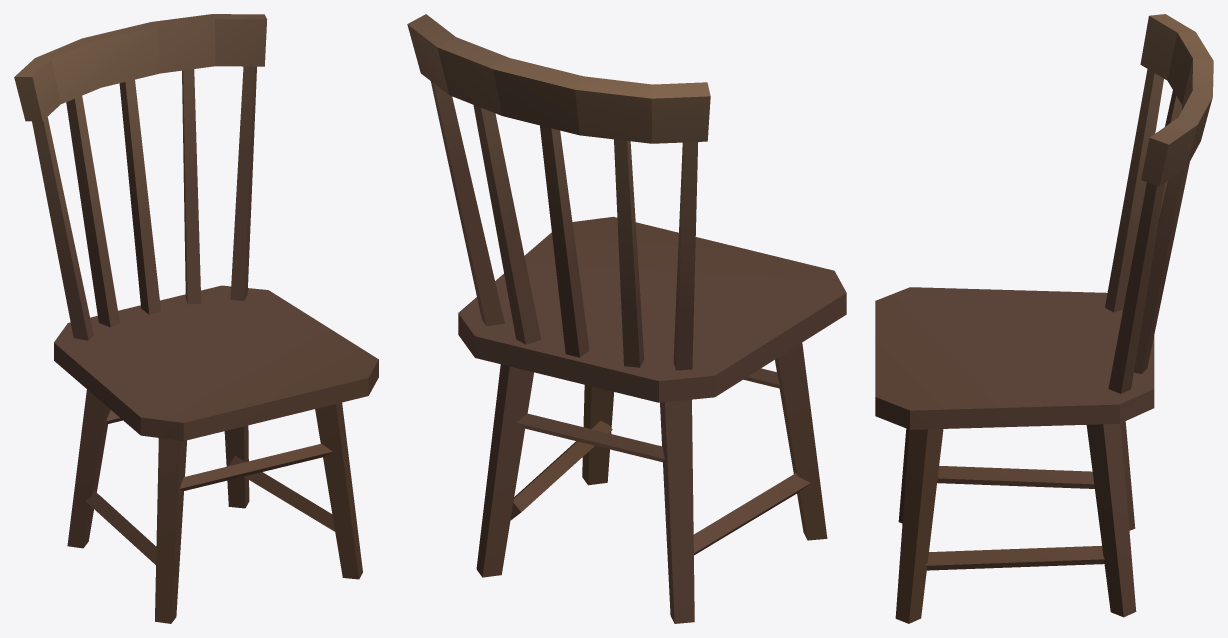
The model's file is Chair 1.glb.
3 renders of one model, left to right at view 1: azimuth 30°, elevation 25°; view 2: azimuth 150°, elevation 25°; view 3: azimuth 270°, elevation 25°, orthographic. The views are drawn at different scales.
Parts seen in each view (by area): view 1: Chair 1; view 2: Chair 1; view 3: Chair 1.
Boxes of the visible parts, x1,y1,x2,y2 form: Chair 1: [14, 14, 378, 623]; Chair 1: [407, 14, 846, 623]; Chair 1: [875, 14, 1213, 623].
Size of what is drawn, in the model's own units: 0.6633 by 1.17 by 0.7256.
Materials: 1 (1 with a texture image).
